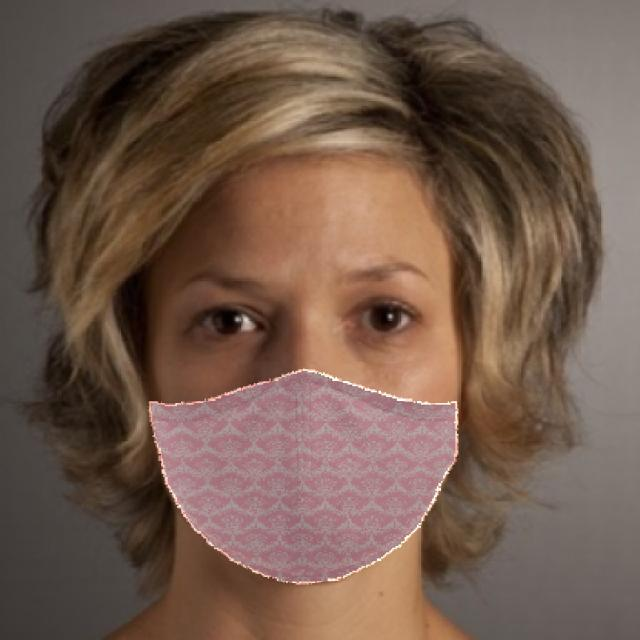mask: (138, 365, 474, 595)
